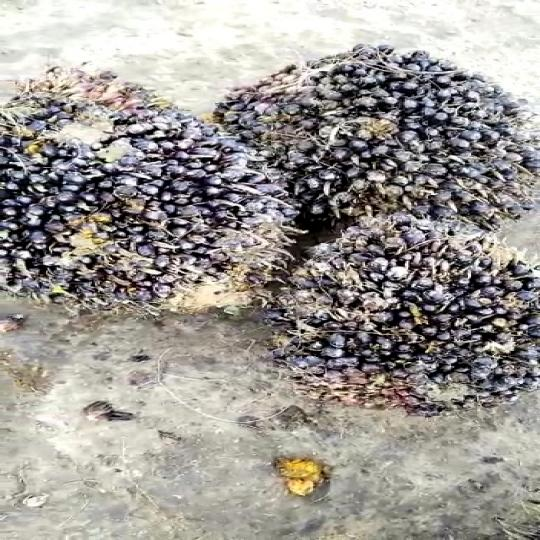mentah: (0, 53, 301, 329), (206, 39, 540, 251), (266, 200, 540, 422)
